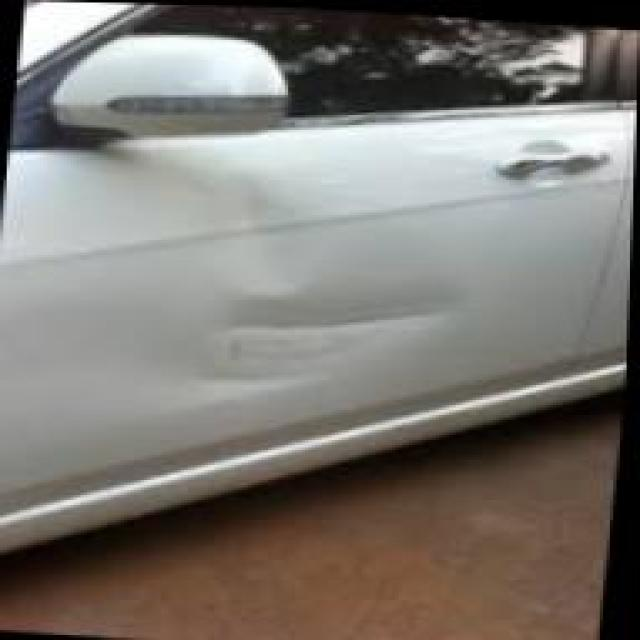Door: (38, 128, 578, 436)
